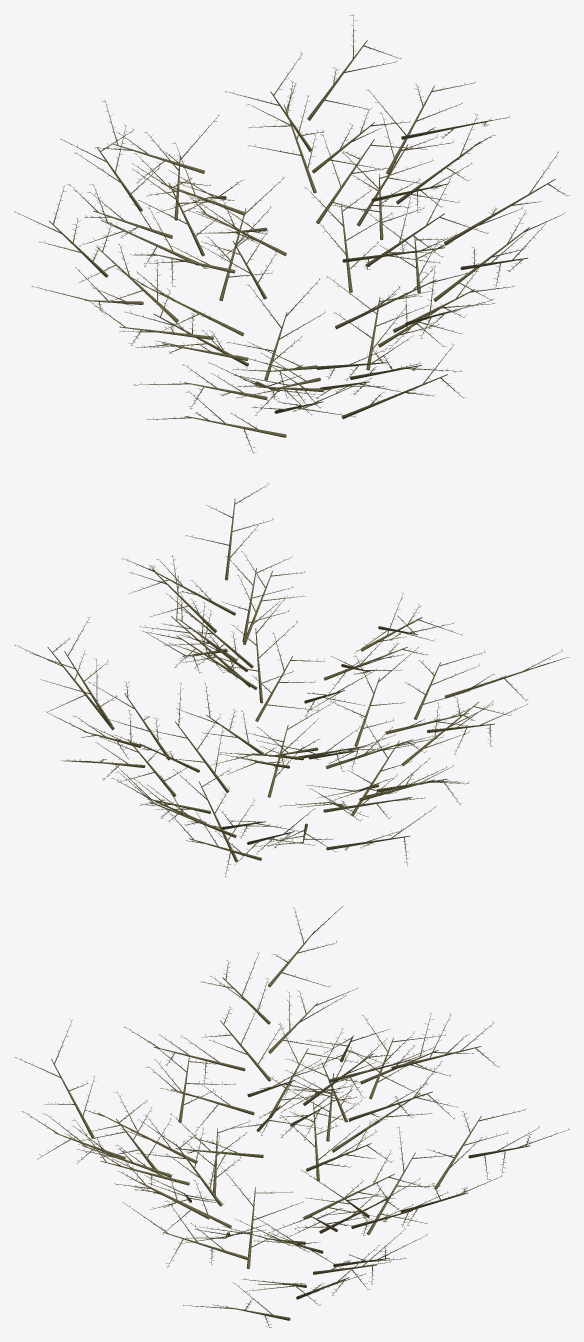
The model's file is s99-tree-young_bark.glb.
The picture shows the model from 3 angles, top to bottom: view 1: azimuth 30°, elevation 25°; view 2: azimuth 150°, elevation 25°; view 3: azimuth 270°, elevation 25°; orthographic projection. The views are drawn at different scales.
Visible parts, largest first — view 1: s97_source_young_bark_mesh_model:0; view 2: s97_source_young_bark_mesh_model:0; view 3: s97_source_young_bark_mesh_model:0.
Boxes of the visible parts, x1,y1,x2,y2 form: s97_source_young_bark_mesh_model:0: [14, 14, 569, 453]; s97_source_young_bark_mesh_model:0: [14, 482, 569, 877]; s97_source_young_bark_mesh_model:0: [15, 906, 569, 1327].
Bounding box in the file's own units: 3.54 × 2.29 × 3.6.
Materials: 1 (1 with a texture image).
